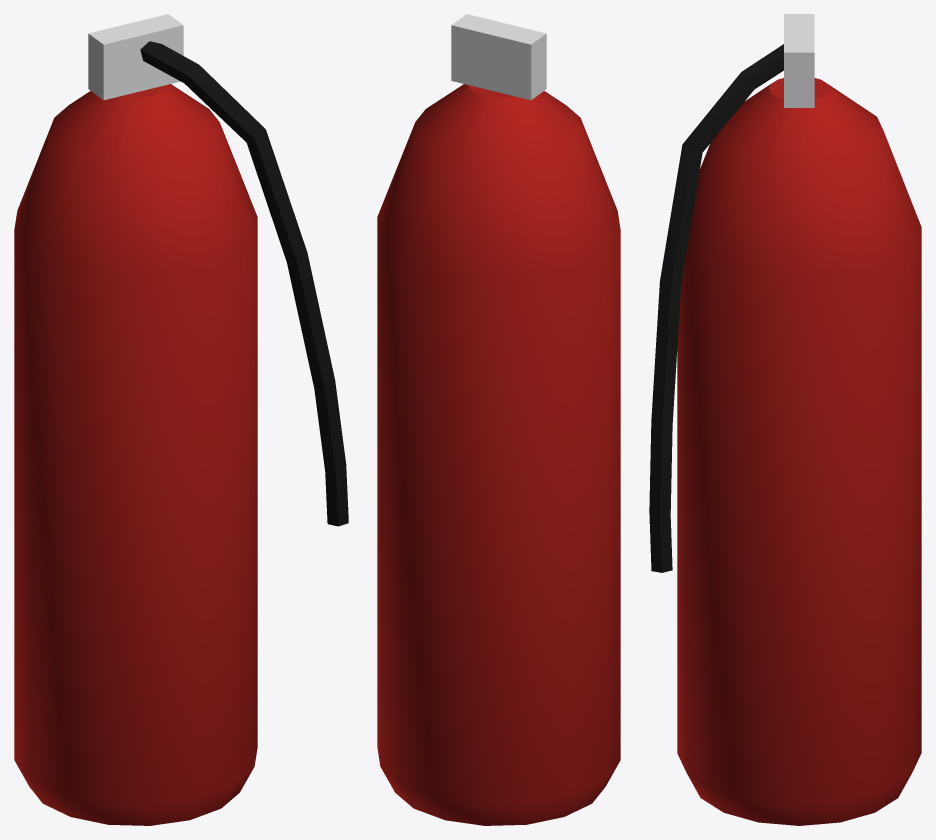
Rendered from extinguisher.glb.
3 views of the same model, side by side, from view 1: azimuth 30°, elevation 25°; view 2: azimuth 150°, elevation 25°; view 3: azimuth 270°, elevation 25° (orthographic).
Visible parts, largest first — view 1: red; view 2: red; view 3: red.
Part boxes in pixels (x1,y1,x2,y2): red: (14, 14, 348, 825); red: (377, 14, 620, 825); red: (649, 14, 921, 825).
Size of the model in its own units: 0.188 by 0.54 by 0.1782.
